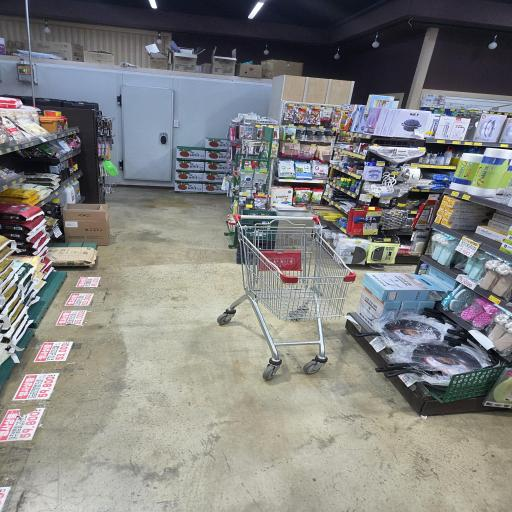empty_cart: (214, 211, 356, 374)
